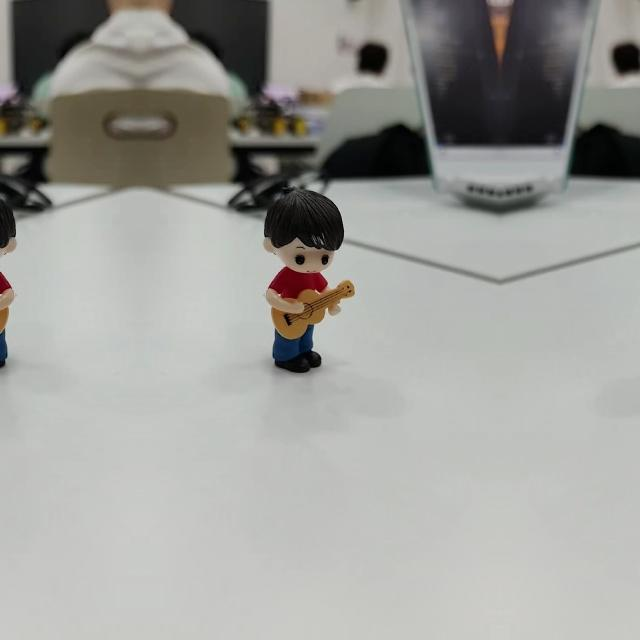man cloth: (268, 270, 328, 306), (0, 270, 12, 306)
man head: (258, 180, 346, 280), (0, 180, 22, 279)
trousers: (275, 322, 325, 374), (0, 321, 5, 374)
